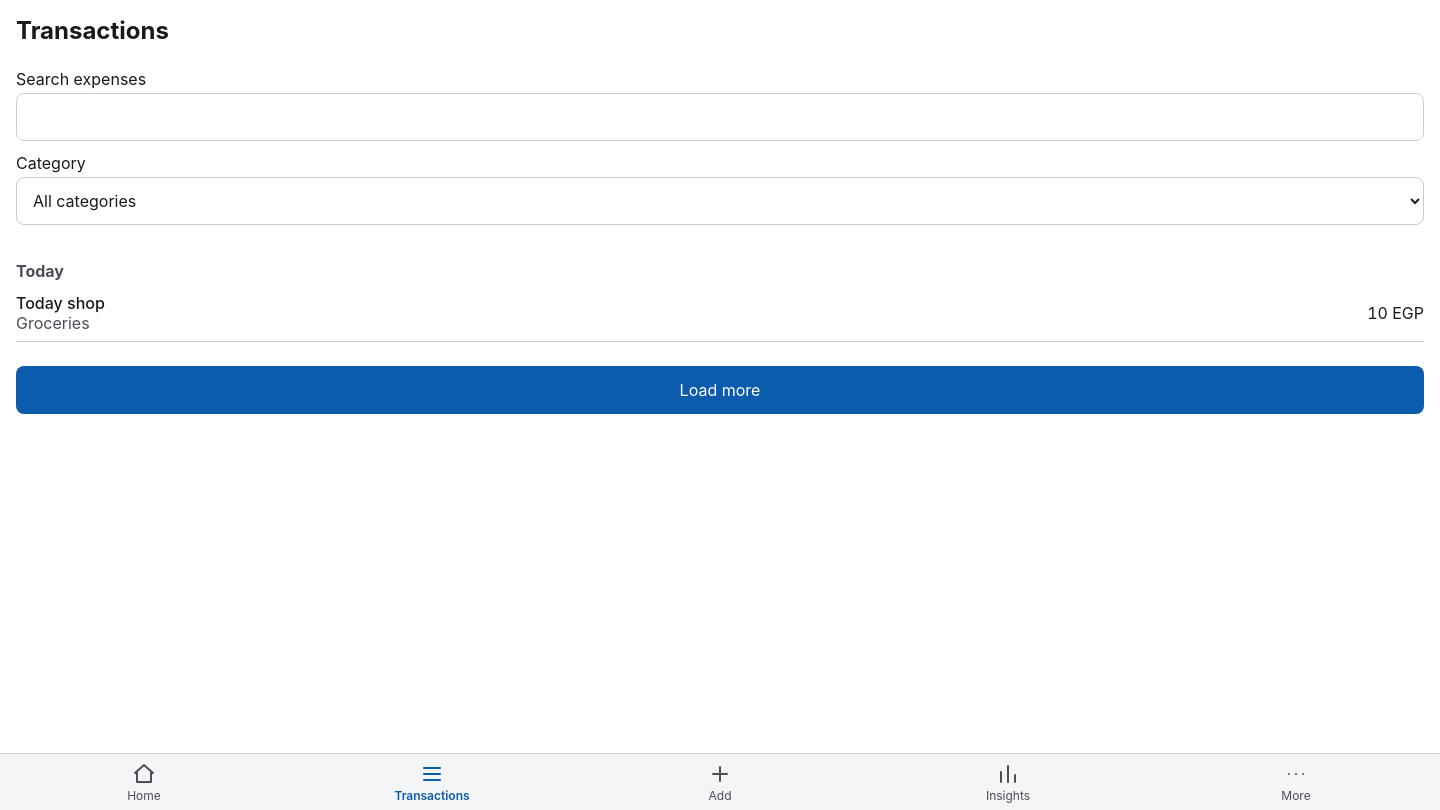
it: REQ-UI-021 load-more failure and REQ-UI-020 offline total › REQ-UI-021 shows an error and a retry when load-more fails, then recovers
expect the text "Today shop" is shown: met, box [16, 293, 105, 313]
Click the button "Load more": (720, 390) [16, 366, 1424, 414]
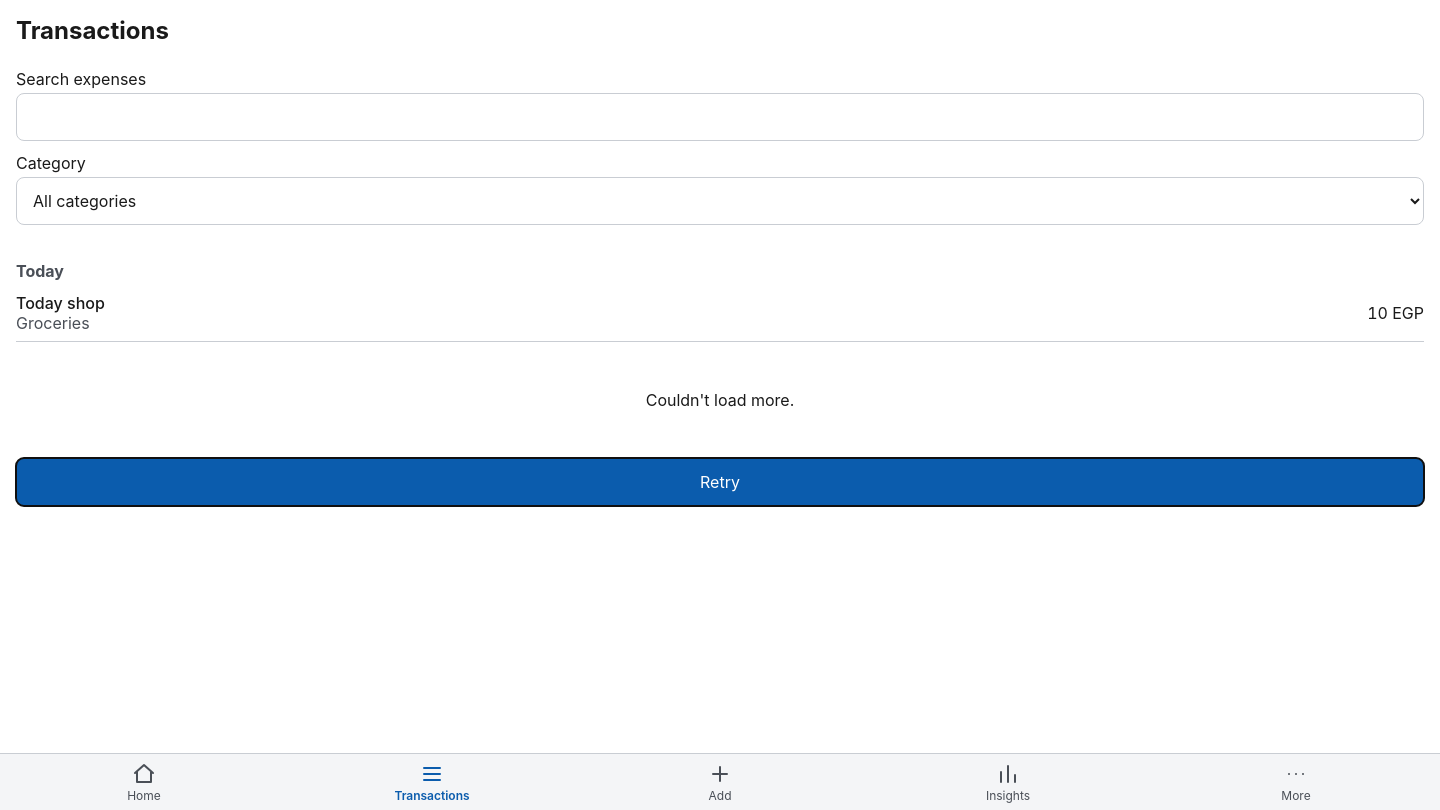
expect the text "Today shop" is shown: met, box [16, 293, 105, 313]
expect the text "Couldn't load more." is shown: met, box [646, 390, 794, 410]
Click the button "Retry": (720, 482) [16, 458, 1424, 506]
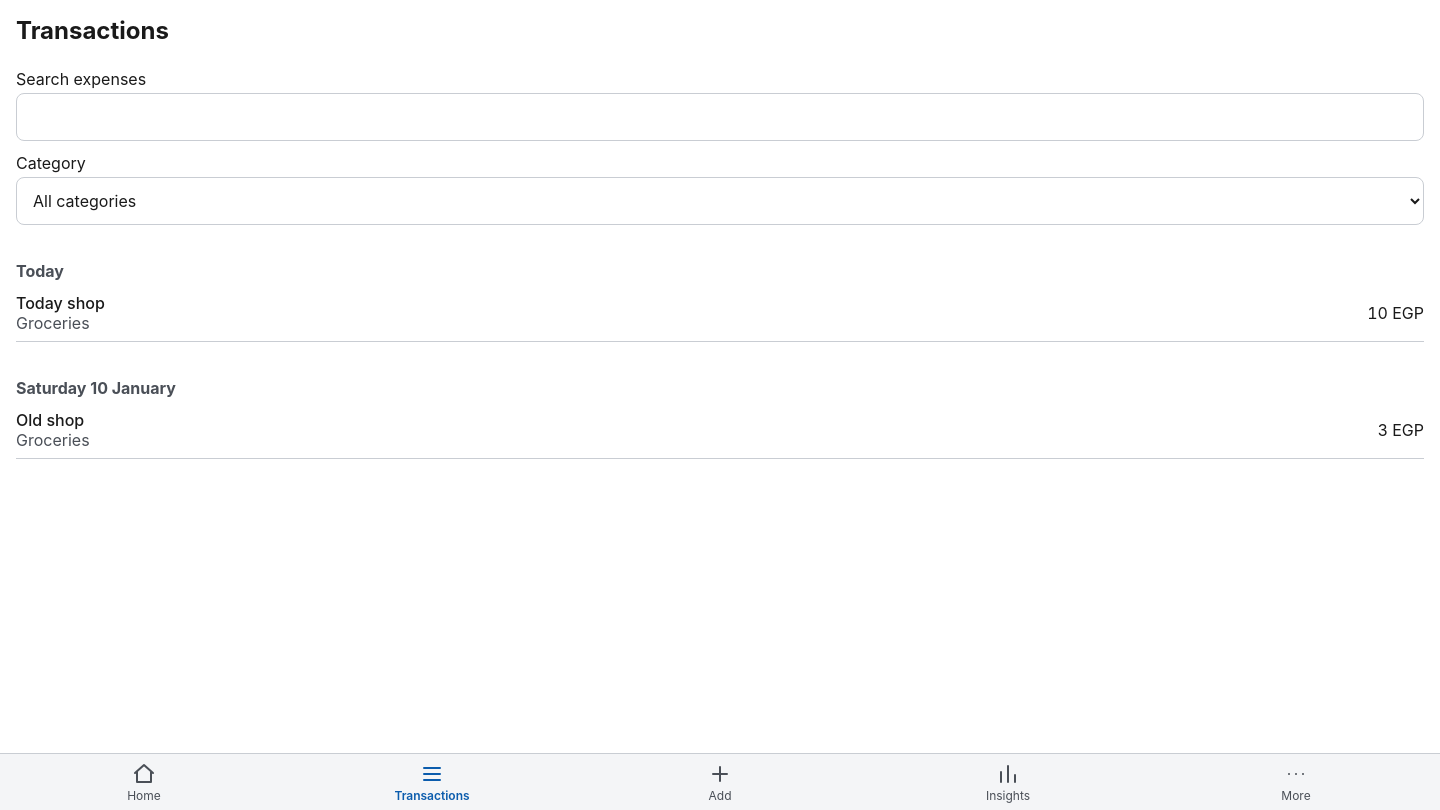
expect the text "Old shop" is shown: met, box [16, 410, 90, 430]
